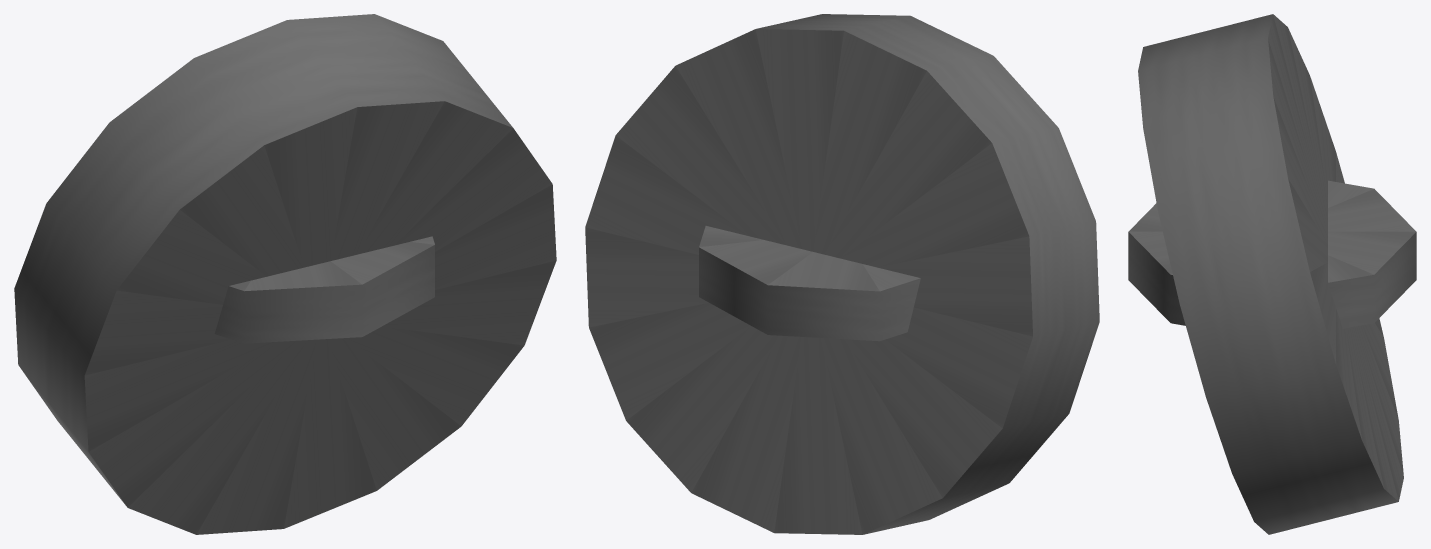
The model's file is mastarmcurve_5x1_c2_down.obj.
3 renders of one model, left to right at view 1: azimuth 30°, elevation 25°; view 2: azimuth 150°, elevation 25°; view 3: azimuth 270°, elevation 25°, orthographic. The views are drawn at different scales.
Parts seen in each view (by area): view 1: mastarm_5x1_c2_down; view 2: mastarm_5x1_c2_down; view 3: mastarm_5x1_c2_down.
Boxes of the visible parts, x1=… form: mastarm_5x1_c2_down: x1=14, y1=14, x2=556, y2=534; mastarm_5x1_c2_down: x1=585, y1=14, x2=1099, y2=534; mastarm_5x1_c2_down: x1=1128, y1=14, x2=1416, y2=534.
Size of the model in its own units: 0.7001 by 0.7247 by 0.4.
